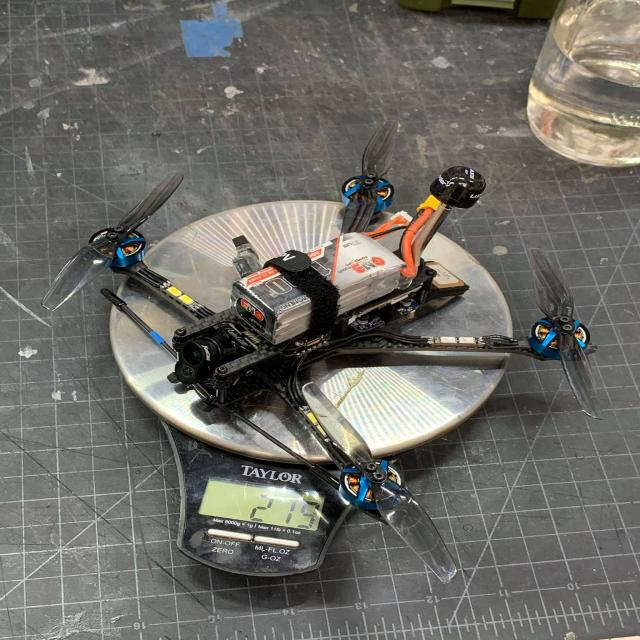drone: (42, 120, 640, 554)
